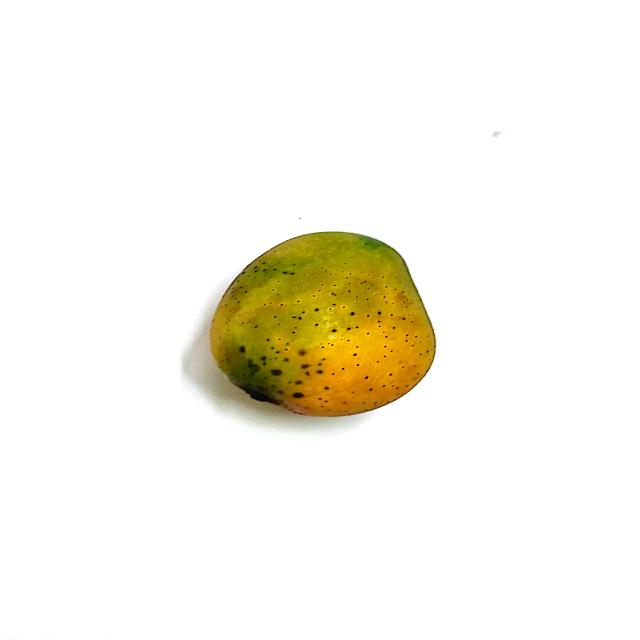fresh_mango: (208, 228, 440, 417)
